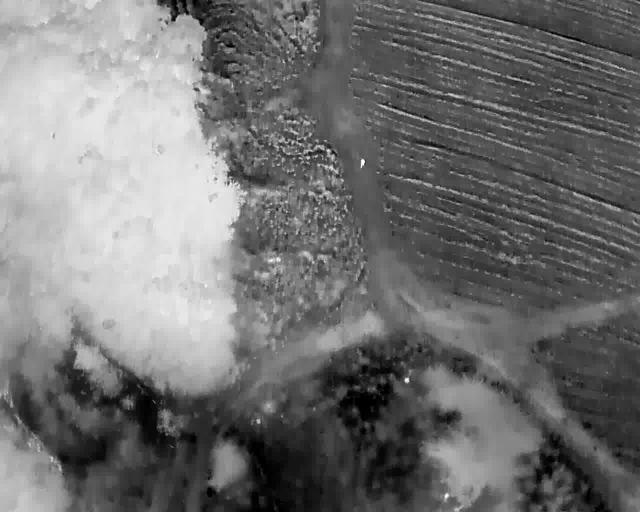person: (360, 158, 364, 168)
